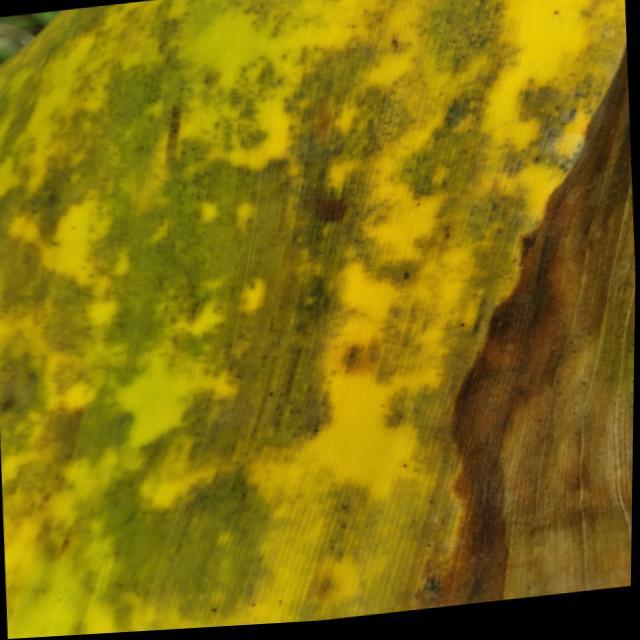Early_rust: (0, 0, 615, 635)
